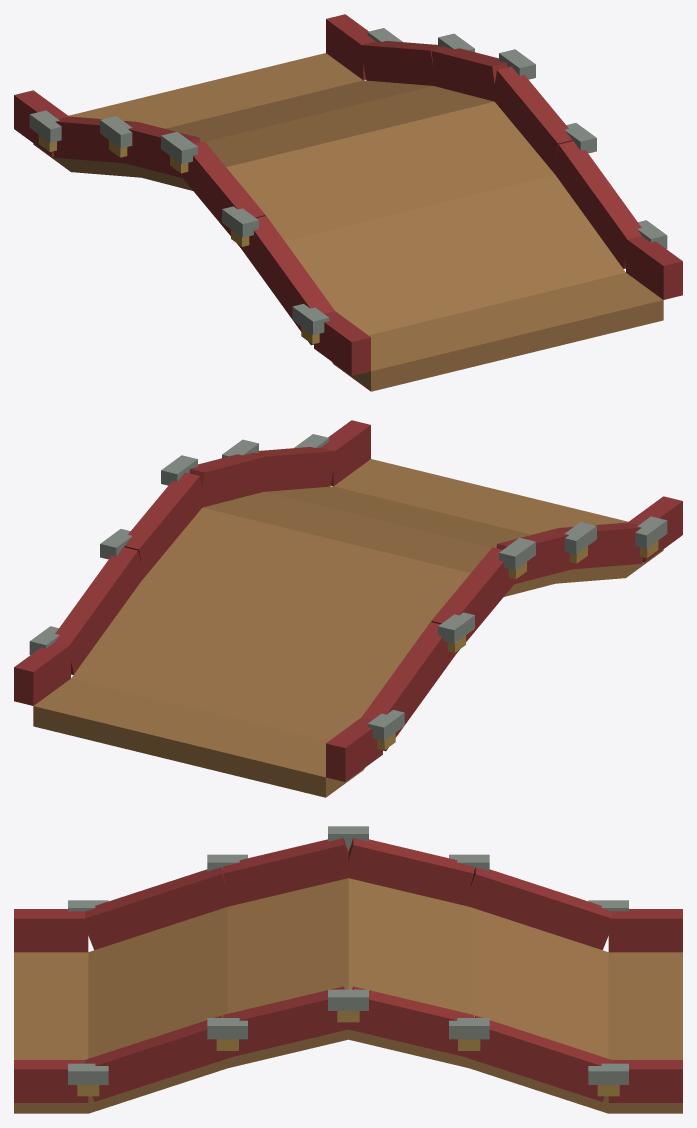
Rendered from PirateCove_BankRamp_Showcase.glb.
3 views of the same model, one above another, from view 1: azimuth 30°, elevation 25°; view 2: azimuth 150°, elevation 25°; view 3: azimuth 270°, elevation 25° (orthographic).
Parts seen in each view (by area): view 1: PirateCove_BankRamp_Showcase; view 2: PirateCove_BankRamp_Showcase; view 3: PirateCove_BankRamp_Showcase.
Boxes of the visible parts, x1,y1,x2,y2 form: PirateCove_BankRamp_Showcase: [14, 14, 682, 391]; PirateCove_BankRamp_Showcase: [14, 420, 682, 797]; PirateCove_BankRamp_Showcase: [14, 826, 682, 1113].
Bounding box in the file's own units: 2.18 × 0.78 × 3.6.
